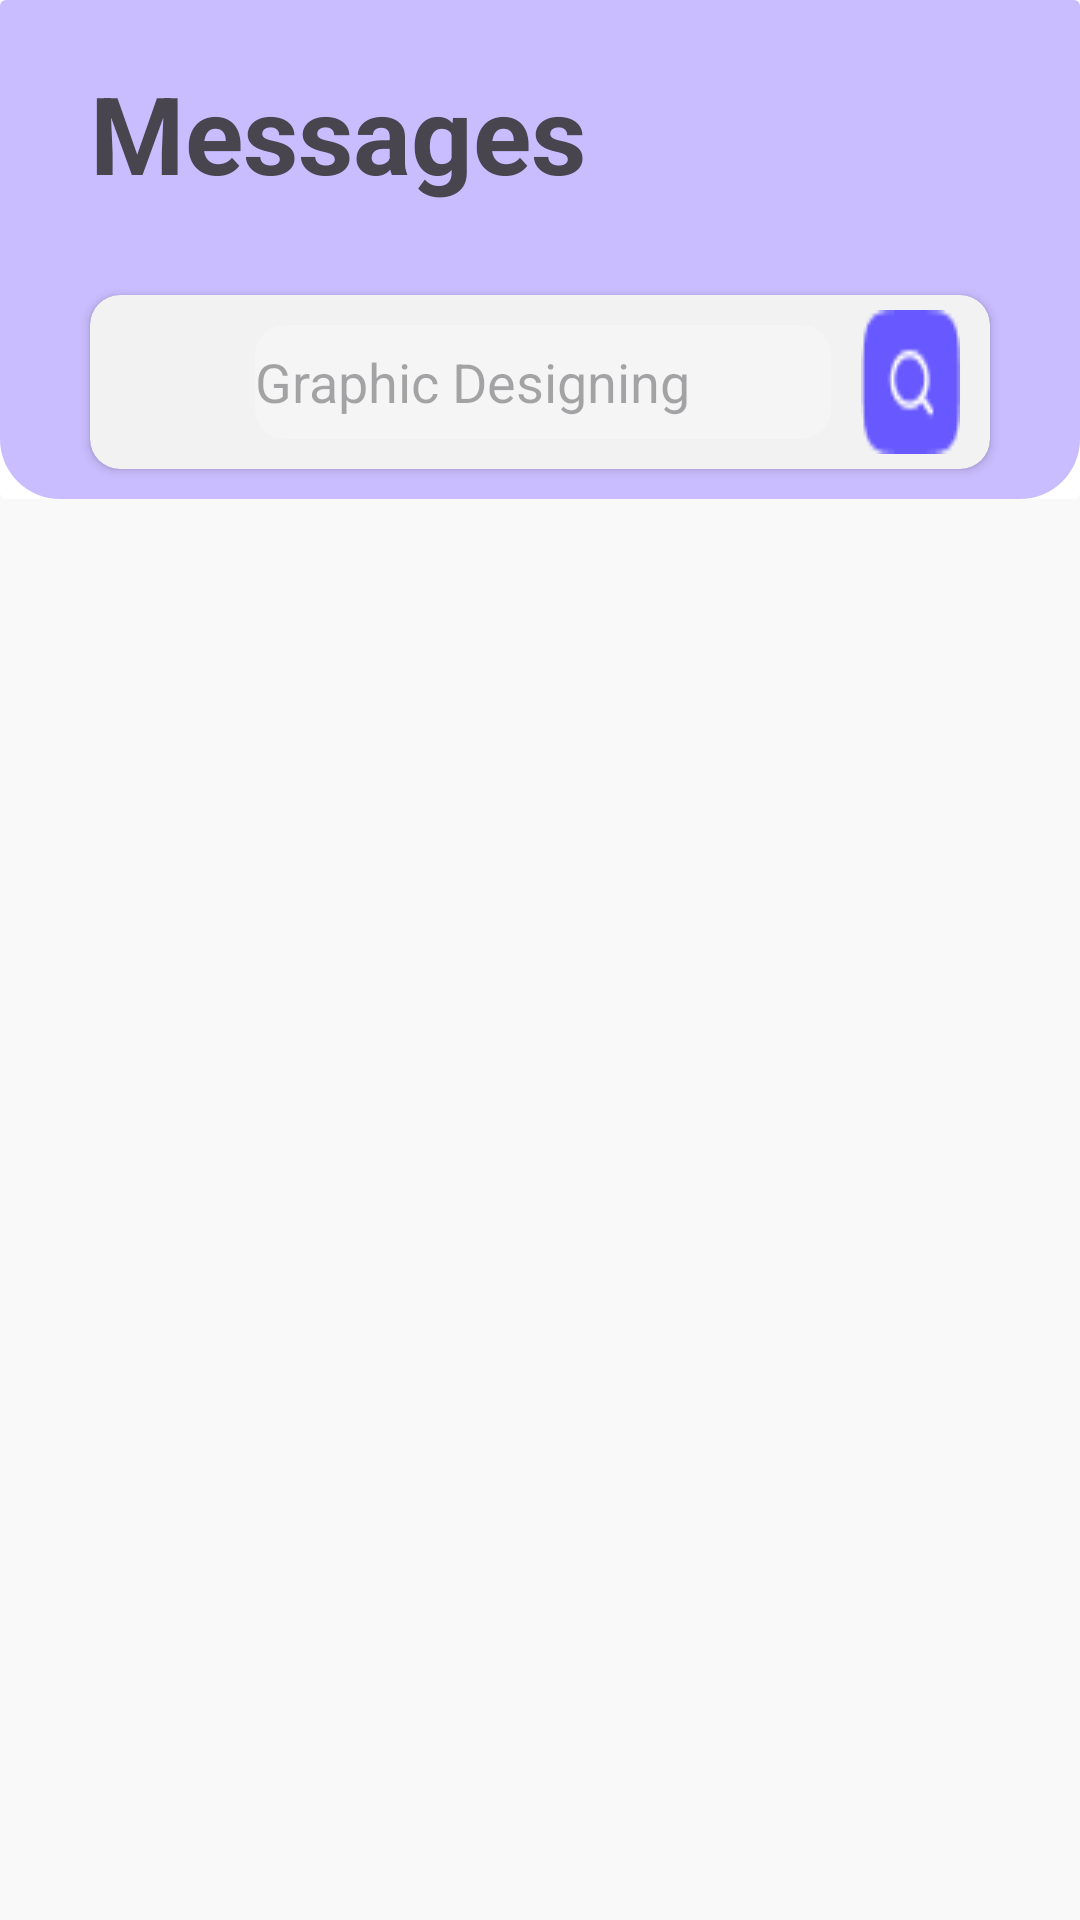

Icons on this 1080px×1920px Android screen, each with its box as (x1,y1,x2,y2):
search: (861,310,960,454)
